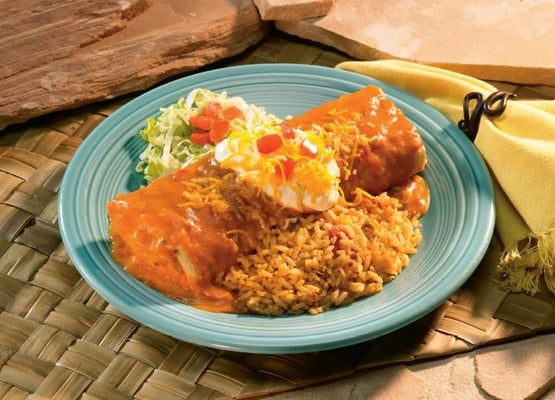curry: (0, 0, 549, 400)
